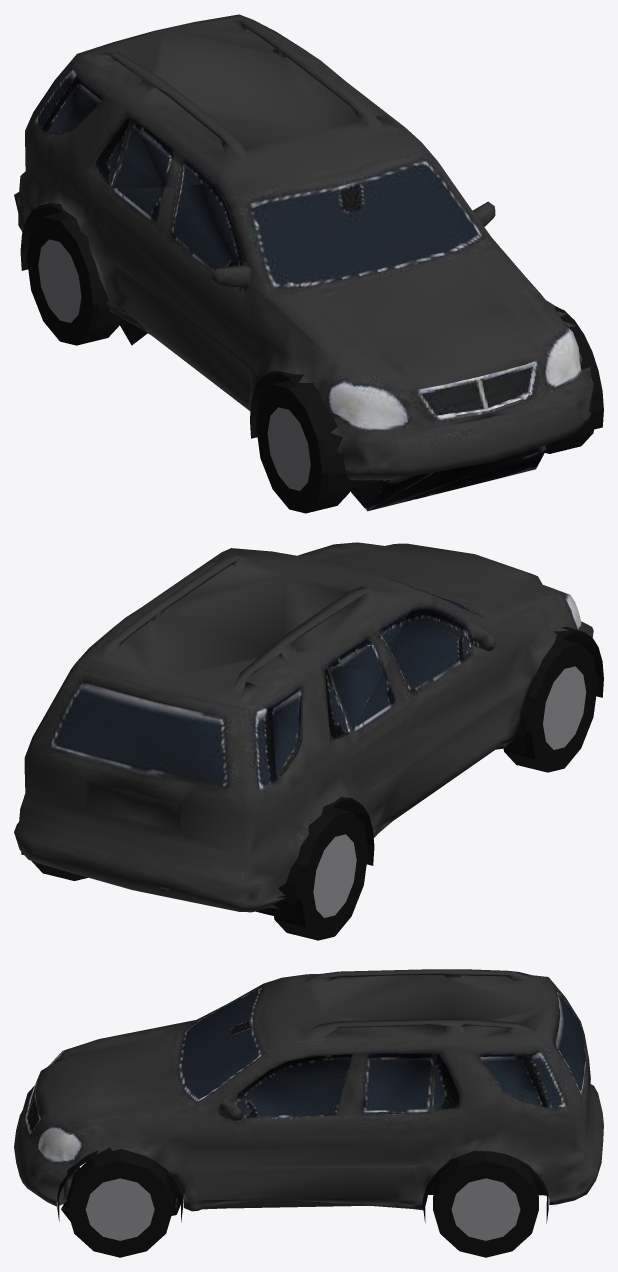
Rendered from suv-black.glb.
3 views of the same model, one above another, from view 1: azimuth 30°, elevation 25°; view 2: azimuth 150°, elevation 25°; view 3: azimuth 270°, elevation 25° (orthographic). The views are drawn at different scales.
Visible parts, largest first — view 1: suv, wheel_rr, wheel_fr; view 2: suv, wheel_fr, wheel_rr; view 3: suv, wheel_fl, wheel_rl.
Part boxes in pixels (bbox=[...]): suv: bbox=[14, 14, 603, 511]; wheel_rr: bbox=[26, 212, 120, 345]; wheel_fr: bbox=[256, 380, 350, 513]; suv: bbox=[14, 542, 603, 921]; wheel_fr: bbox=[503, 639, 597, 772]; wheel_rr: bbox=[274, 807, 368, 940]; suv: bbox=[14, 969, 603, 1223]; wheel_fl: bbox=[67, 1152, 173, 1257]; wheel_rl: bbox=[433, 1152, 538, 1257].
Size of the model in its own units: 2.08 by 1.87 by 4.7.
1 material, 1 textured.
